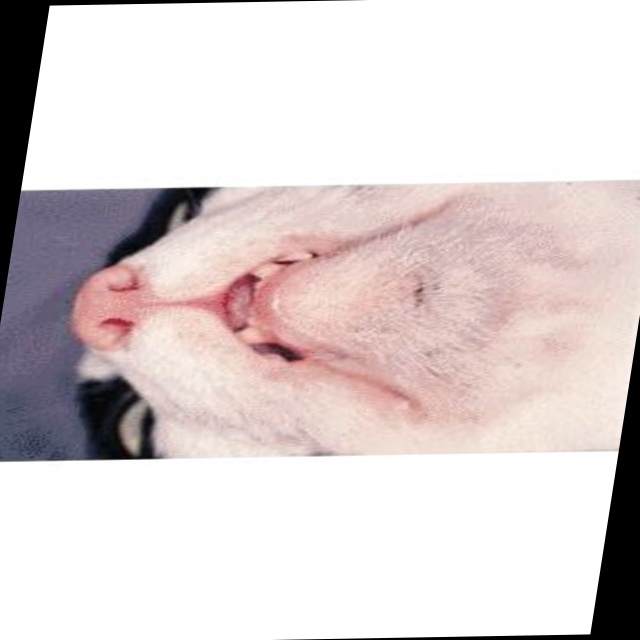acne: (395, 277, 451, 311)
